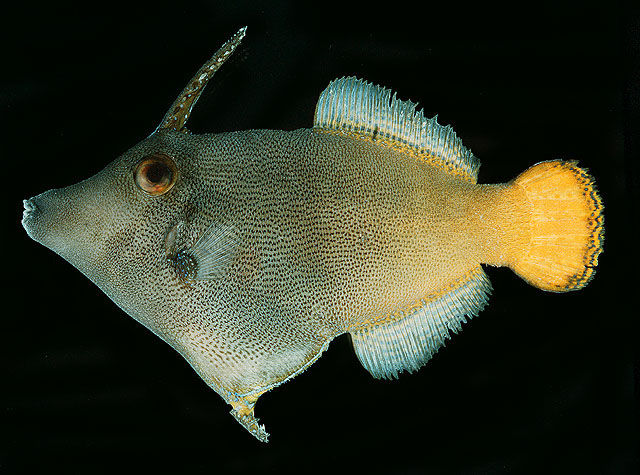fish: (21, 26, 606, 444)
